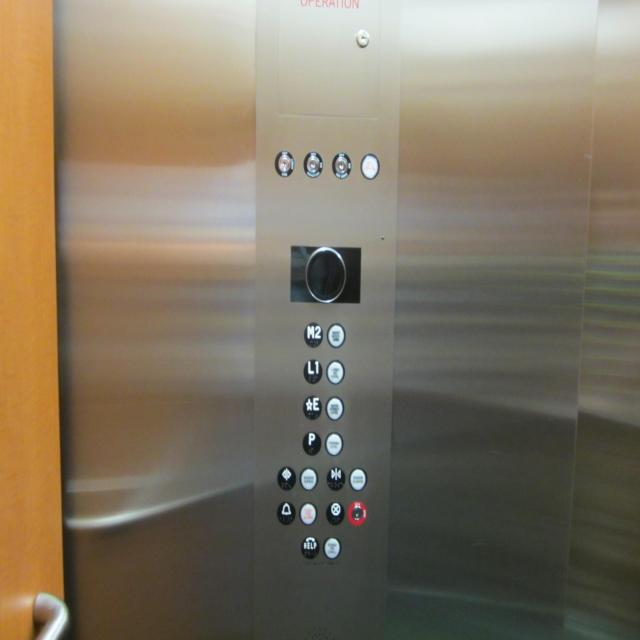L1: (302, 358, 322, 384)
M2: (303, 322, 323, 347)
P: (302, 431, 322, 456)
alarm: (276, 500, 296, 525)
call: (301, 536, 319, 559)
close: (326, 466, 346, 491)
hat: (360, 153, 380, 180)
keyhole: (274, 150, 294, 177), (303, 151, 323, 178), (331, 152, 351, 179), (347, 500, 367, 526), (356, 29, 370, 48)
led: (290, 245, 361, 302)
open: (277, 466, 297, 490)
sE: (302, 395, 322, 420)
stop: (326, 502, 344, 525)
text_blur: (326, 322, 346, 348), (325, 396, 345, 420), (324, 432, 344, 456), (322, 536, 342, 560), (299, 466, 318, 491), (326, 358, 344, 384), (298, 502, 318, 525), (349, 467, 368, 491)
